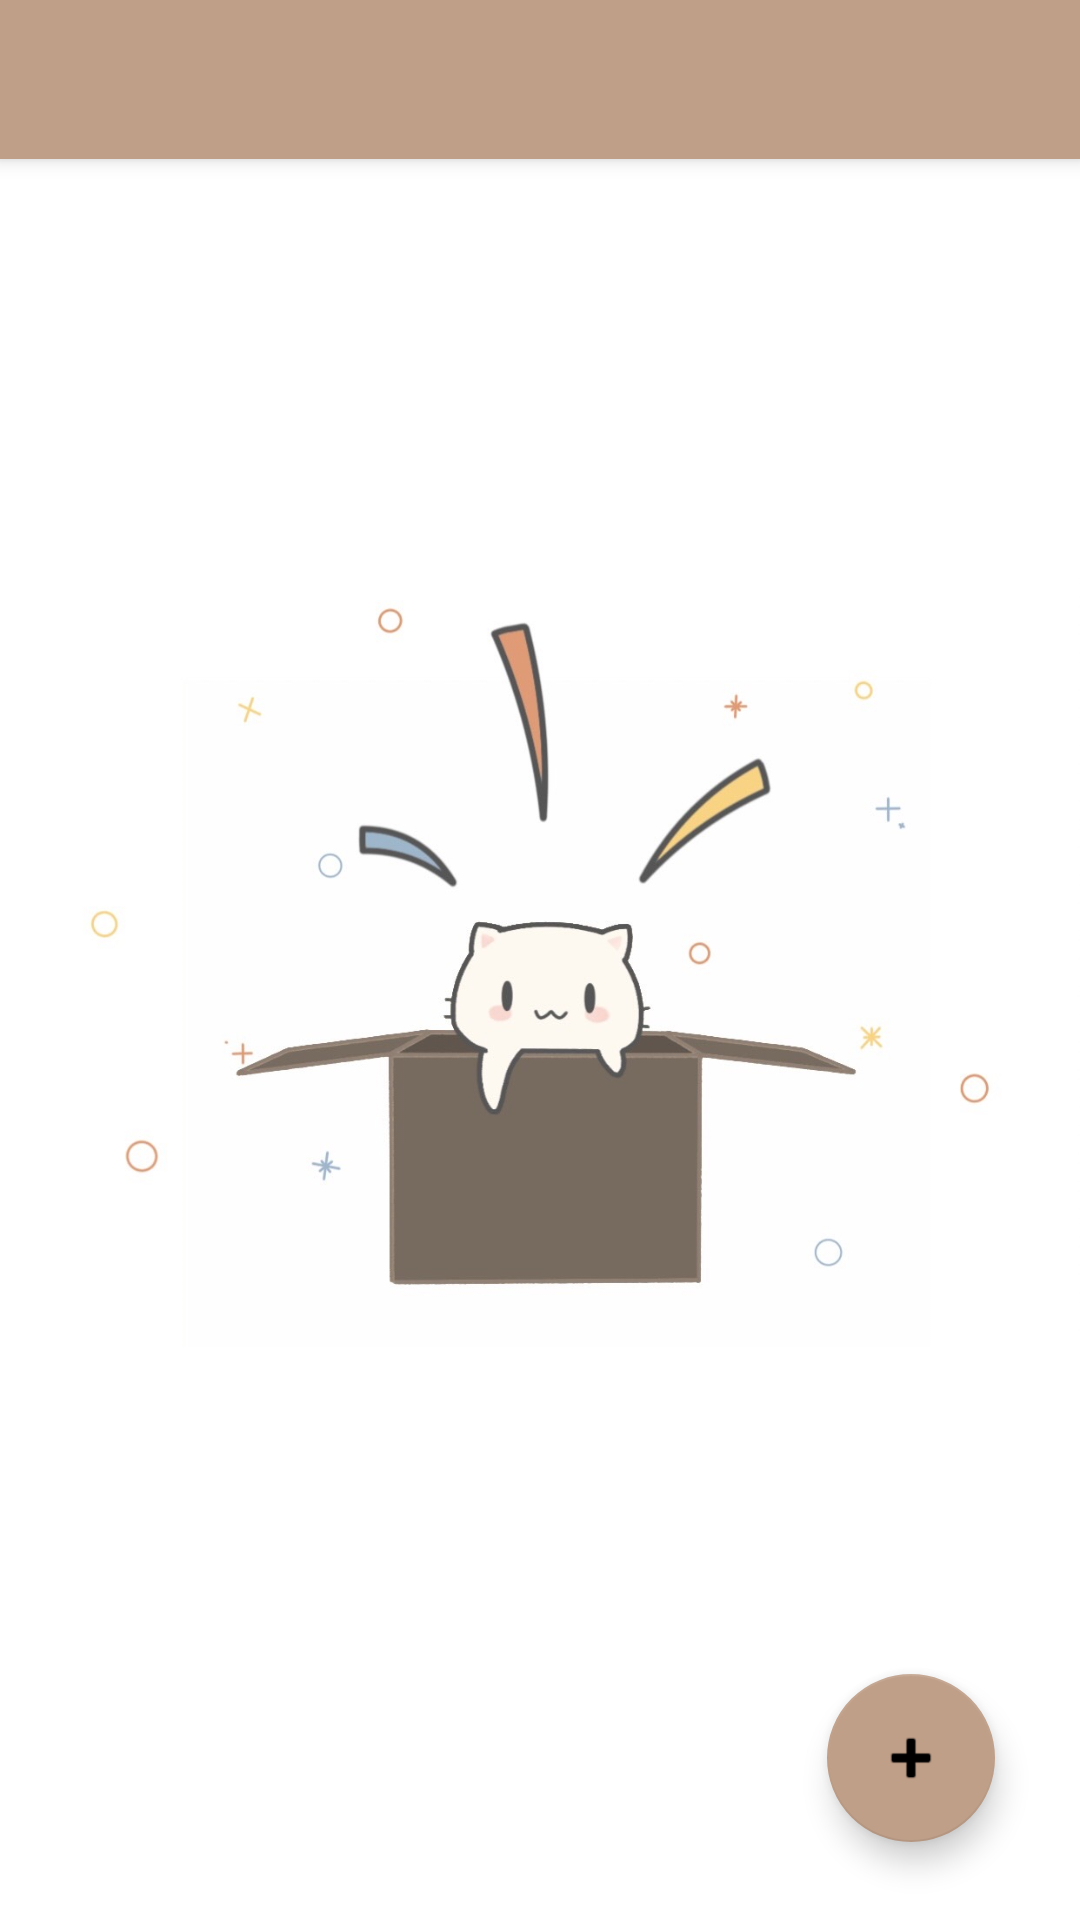

Named icons in this screenshot (1080 × 1920) and their centers, (x=x, y=y):
add: (x=911, y=1758)
